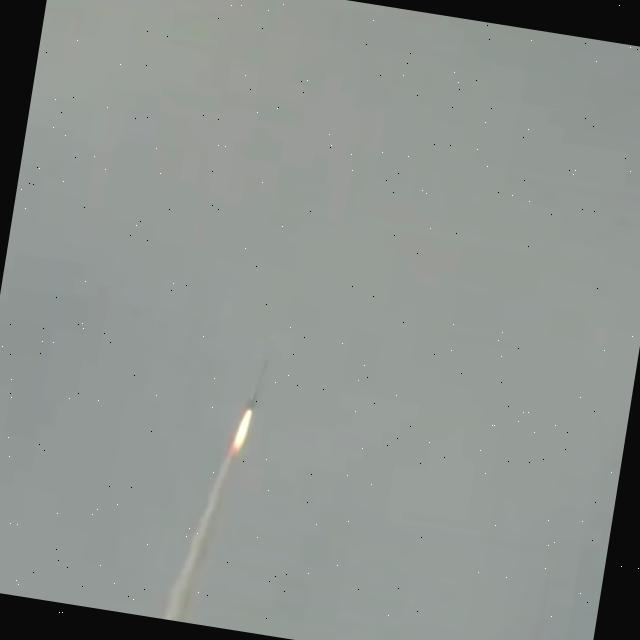smoke_trail_with_rocket: (161, 358, 271, 623)
